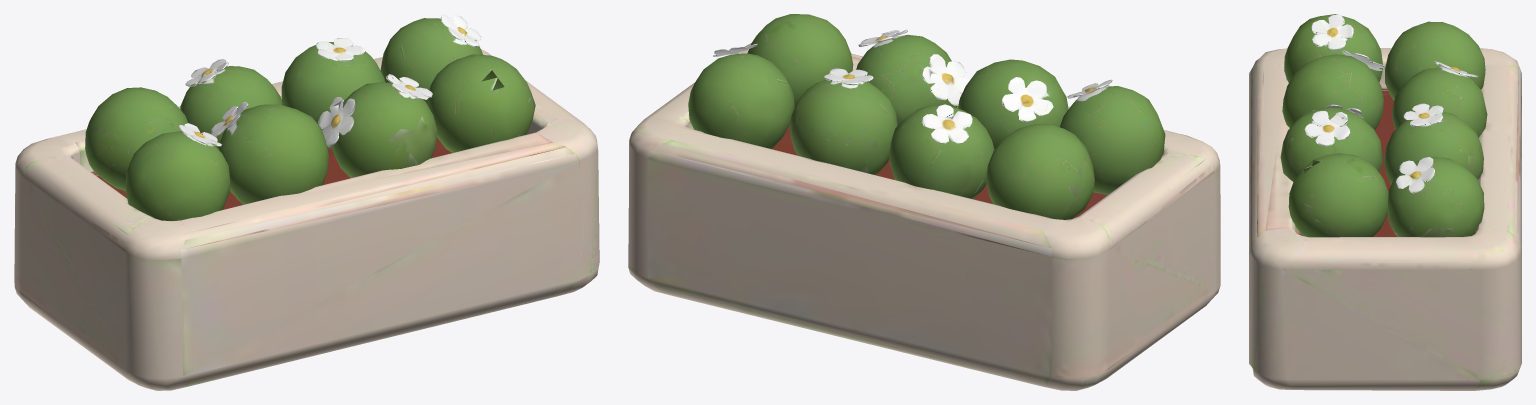
File: planter.glb
3 views of the same model, side by side, from view 1: azimuth 30°, elevation 25°; view 2: azimuth 150°, elevation 25°; view 3: azimuth 270°, elevation 25° (orthographic). The views are drawn at different scales.
Size of the model in its own units: 0.9575 by 0.4458 by 0.52.
1 material, 1 textured.
